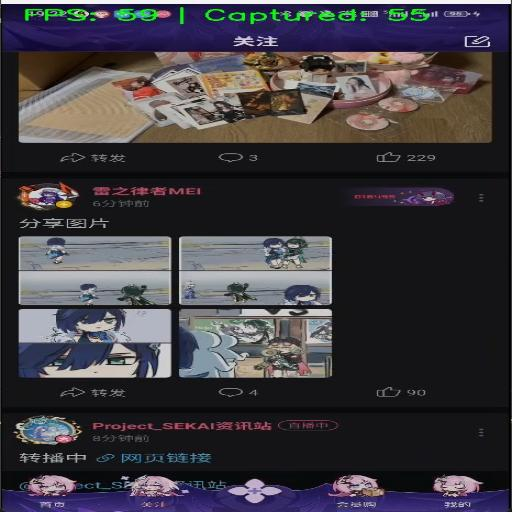butten: (8, 186, 500, 409), (422, 473, 498, 512), (319, 477, 388, 511), (124, 472, 189, 507), (25, 472, 89, 506)
